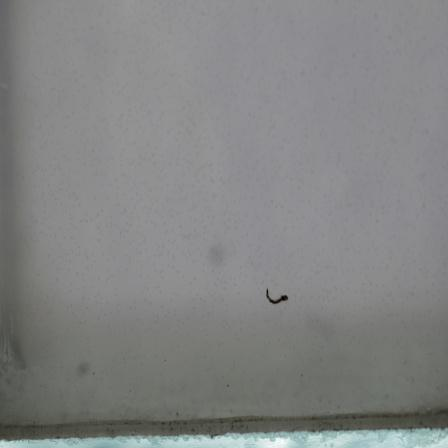Jentik-Nyamuk: (264, 282, 293, 310)
